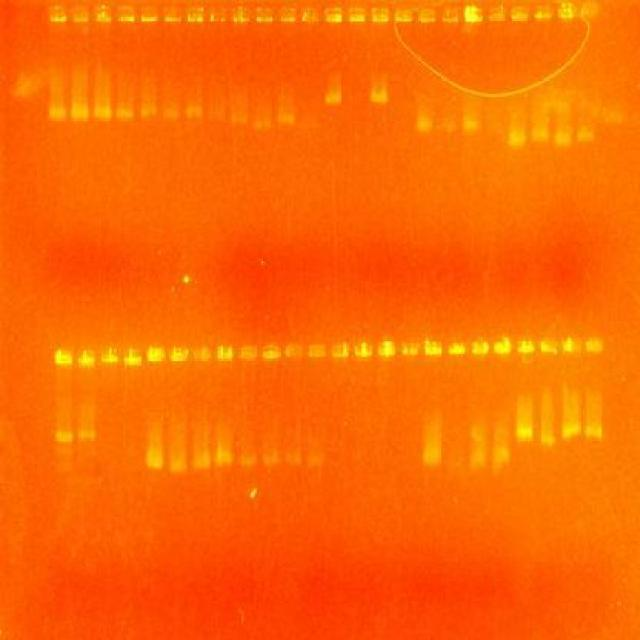B: (466, 452, 488, 470), (92, 104, 114, 121), (507, 130, 527, 148), (47, 105, 67, 122), (492, 447, 510, 465), (70, 105, 90, 121), (438, 118, 458, 134), (583, 424, 603, 440), (262, 451, 281, 467), (554, 132, 572, 148), (562, 423, 580, 439), (138, 104, 158, 118), (530, 128, 550, 142), (514, 426, 534, 440), (423, 448, 440, 464), (192, 456, 211, 470), (144, 456, 164, 469), (162, 106, 180, 120), (230, 112, 248, 126), (462, 117, 480, 131), (416, 117, 434, 131), (370, 90, 388, 104), (308, 453, 326, 467), (284, 452, 302, 466), (238, 455, 257, 468), (114, 108, 134, 120), (216, 451, 232, 466), (184, 105, 202, 118), (253, 118, 272, 130), (576, 130, 595, 142), (326, 90, 342, 104), (538, 434, 556, 446), (55, 432, 74, 443), (76, 429, 95, 440), (278, 112, 294, 125), (170, 461, 187, 472)
L: (50, 332, 608, 370), (44, 1, 604, 30)
Pc: (492, 334, 514, 354), (123, 345, 142, 367), (94, 3, 112, 26), (144, 344, 166, 362), (168, 344, 190, 362), (560, 335, 582, 353), (70, 4, 90, 23), (580, 1, 600, 20), (557, 1, 577, 20), (463, 4, 483, 23), (394, 4, 414, 23), (76, 348, 96, 367), (214, 343, 234, 362), (400, 338, 420, 357), (285, 340, 304, 360), (139, 4, 158, 23), (100, 346, 120, 364), (538, 337, 558, 355), (472, 336, 490, 356), (447, 338, 467, 356), (423, 337, 443, 355), (330, 340, 350, 358), (232, 4, 250, 23), (512, 3, 530, 22), (348, 4, 366, 23), (193, 344, 212, 362), (516, 337, 535, 355), (378, 338, 396, 357), (49, 4, 66, 24), (534, 4, 554, 21), (487, 4, 507, 21), (440, 6, 460, 23), (370, 6, 390, 23), (323, 6, 343, 23), (301, 6, 321, 23), (261, 343, 281, 360), (55, 348, 73, 366), (117, 4, 134, 23), (185, 6, 204, 23), (208, 6, 227, 23), (256, 4, 273, 23), (418, 6, 437, 23), (278, 6, 297, 23), (238, 344, 257, 361), (164, 6, 182, 23), (584, 338, 604, 353), (354, 341, 372, 357), (308, 342, 326, 358)
